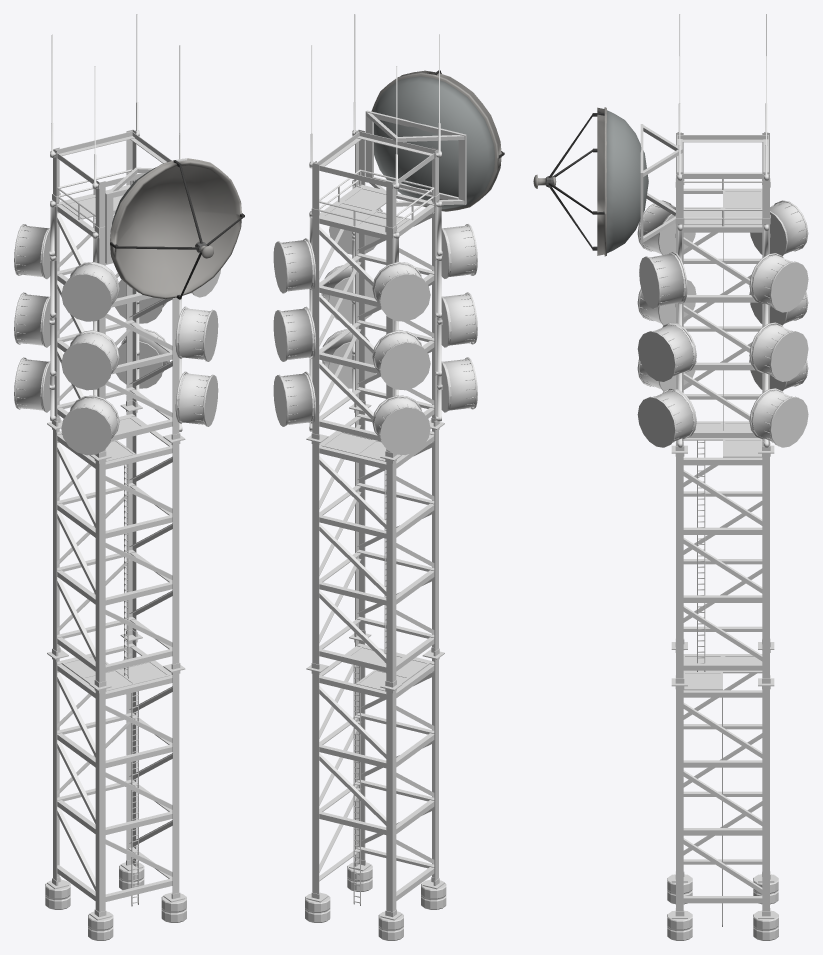
Rendered from RADIOTOWER.fbx.
The picture shows the model from 3 angles, left to right: view 1: azimuth 30°, elevation 25°; view 2: azimuth 150°, elevation 25°; view 3: azimuth 270°, elevation 25°; orthographic projection.
Visible parts, largest first — view 1: Cylinder.009, Cube.000, Cube.008, Sphere, Cube.003, Cube.186, Cube.010, Cylinder.026, Cylinder.001, Cube.009, Cylinder.000, Cube.183; view 2: Cylinder.009, Cube.000, Cube.008, Cube.003, Sphere, Cube.186, Cube.010, Cylinder.026, Cylinder.001, Cube.009, Cube.183, Cylinder.000; view 3: Cylinder.009, Cube.008, Cube.000, Cube.003, Sphere, Cube.010, Cube.186, Cylinder.026, Cube.009, Cylinder.001, Cube.183, Cylinder.000.
Part boxes in pixels (<box>): Cylinder.009: <box>14,224,220,455</box>; Cube.000: <box>47,410,185,690</box>; Cube.008: <box>47,639,185,920</box>; Sphere: <box>110,158,244,299</box>; Cube.003: <box>47,179,185,460</box>; Cube.186: <box>53,129,171,263</box>; Cube.010: <box>61,195,170,691</box>; Cylinder.026: <box>45,862,186,940</box>; Cylinder.001: <box>50,200,182,431</box>; Cube.009: <box>93,216,138,906</box>; Cylinder.000: <box>50,14,180,189</box>; Cube.183: <box>57,169,137,224</box>; Cylinder.009: <box>273,208,477,455</box>; Cube.000: <box>306,410,444,690</box>; Cube.008: <box>306,639,444,920</box>; Cube.003: <box>306,176,444,460</box>; Sphere: <box>371,70,504,211</box>; Cube.186: <box>312,110,466,227</box>; Cube.010: <box>321,187,429,690</box>; Cylinder.026: <box>305,862,446,940</box>; Cylinder.001: <box>309,180,441,431</box>; Cube.009: <box>353,469,386,905</box>; Cube.183: <box>319,169,434,227</box>; Cylinder.000: <box>309,14,441,189</box>; Cylinder.009: <box>637,200,808,447</box>; Cube.008: <box>671,650,774,918</box>; Cube.000: <box>671,421,774,686</box>; Cube.003: <box>671,178,774,453</box>; Sphere: <box>533,107,648,256</box>; Cube.010: <box>683,190,762,690</box>; Cube.186: <box>640,124,769,243</box>; Cylinder.026: <box>667,874,778,940</box>; Cube.009: <box>697,232,723,926</box>; Cylinder.001: <box>676,224,769,447</box>; Cube.183: <box>683,172,762,226</box>; Cylinder.000: <box>676,14,769,180</box>.
Size of the model in its own units: 245 by 1297 by 367.
